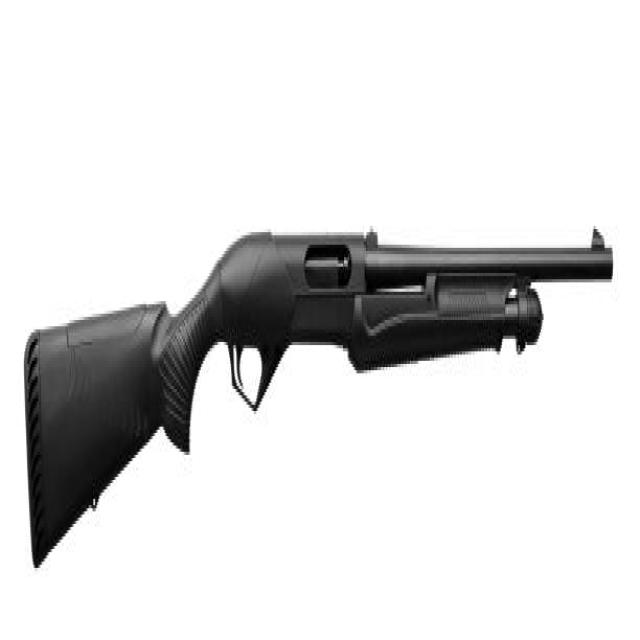rifle: (24, 213, 621, 583)
